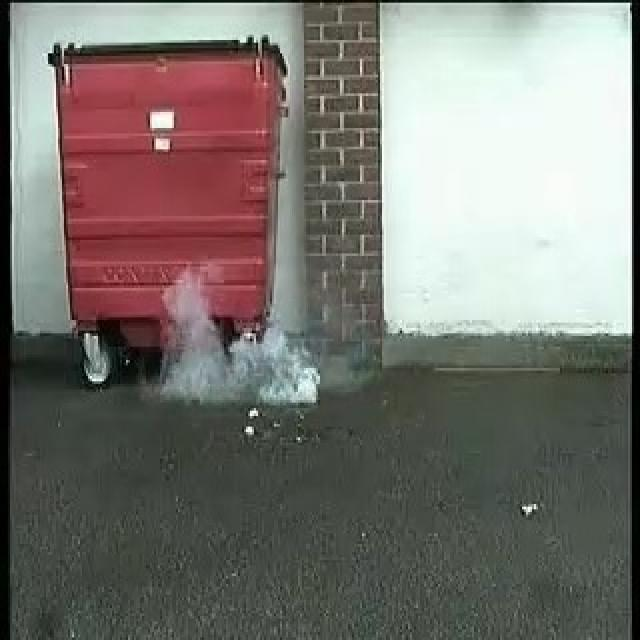smoke: (158, 275, 319, 404)
